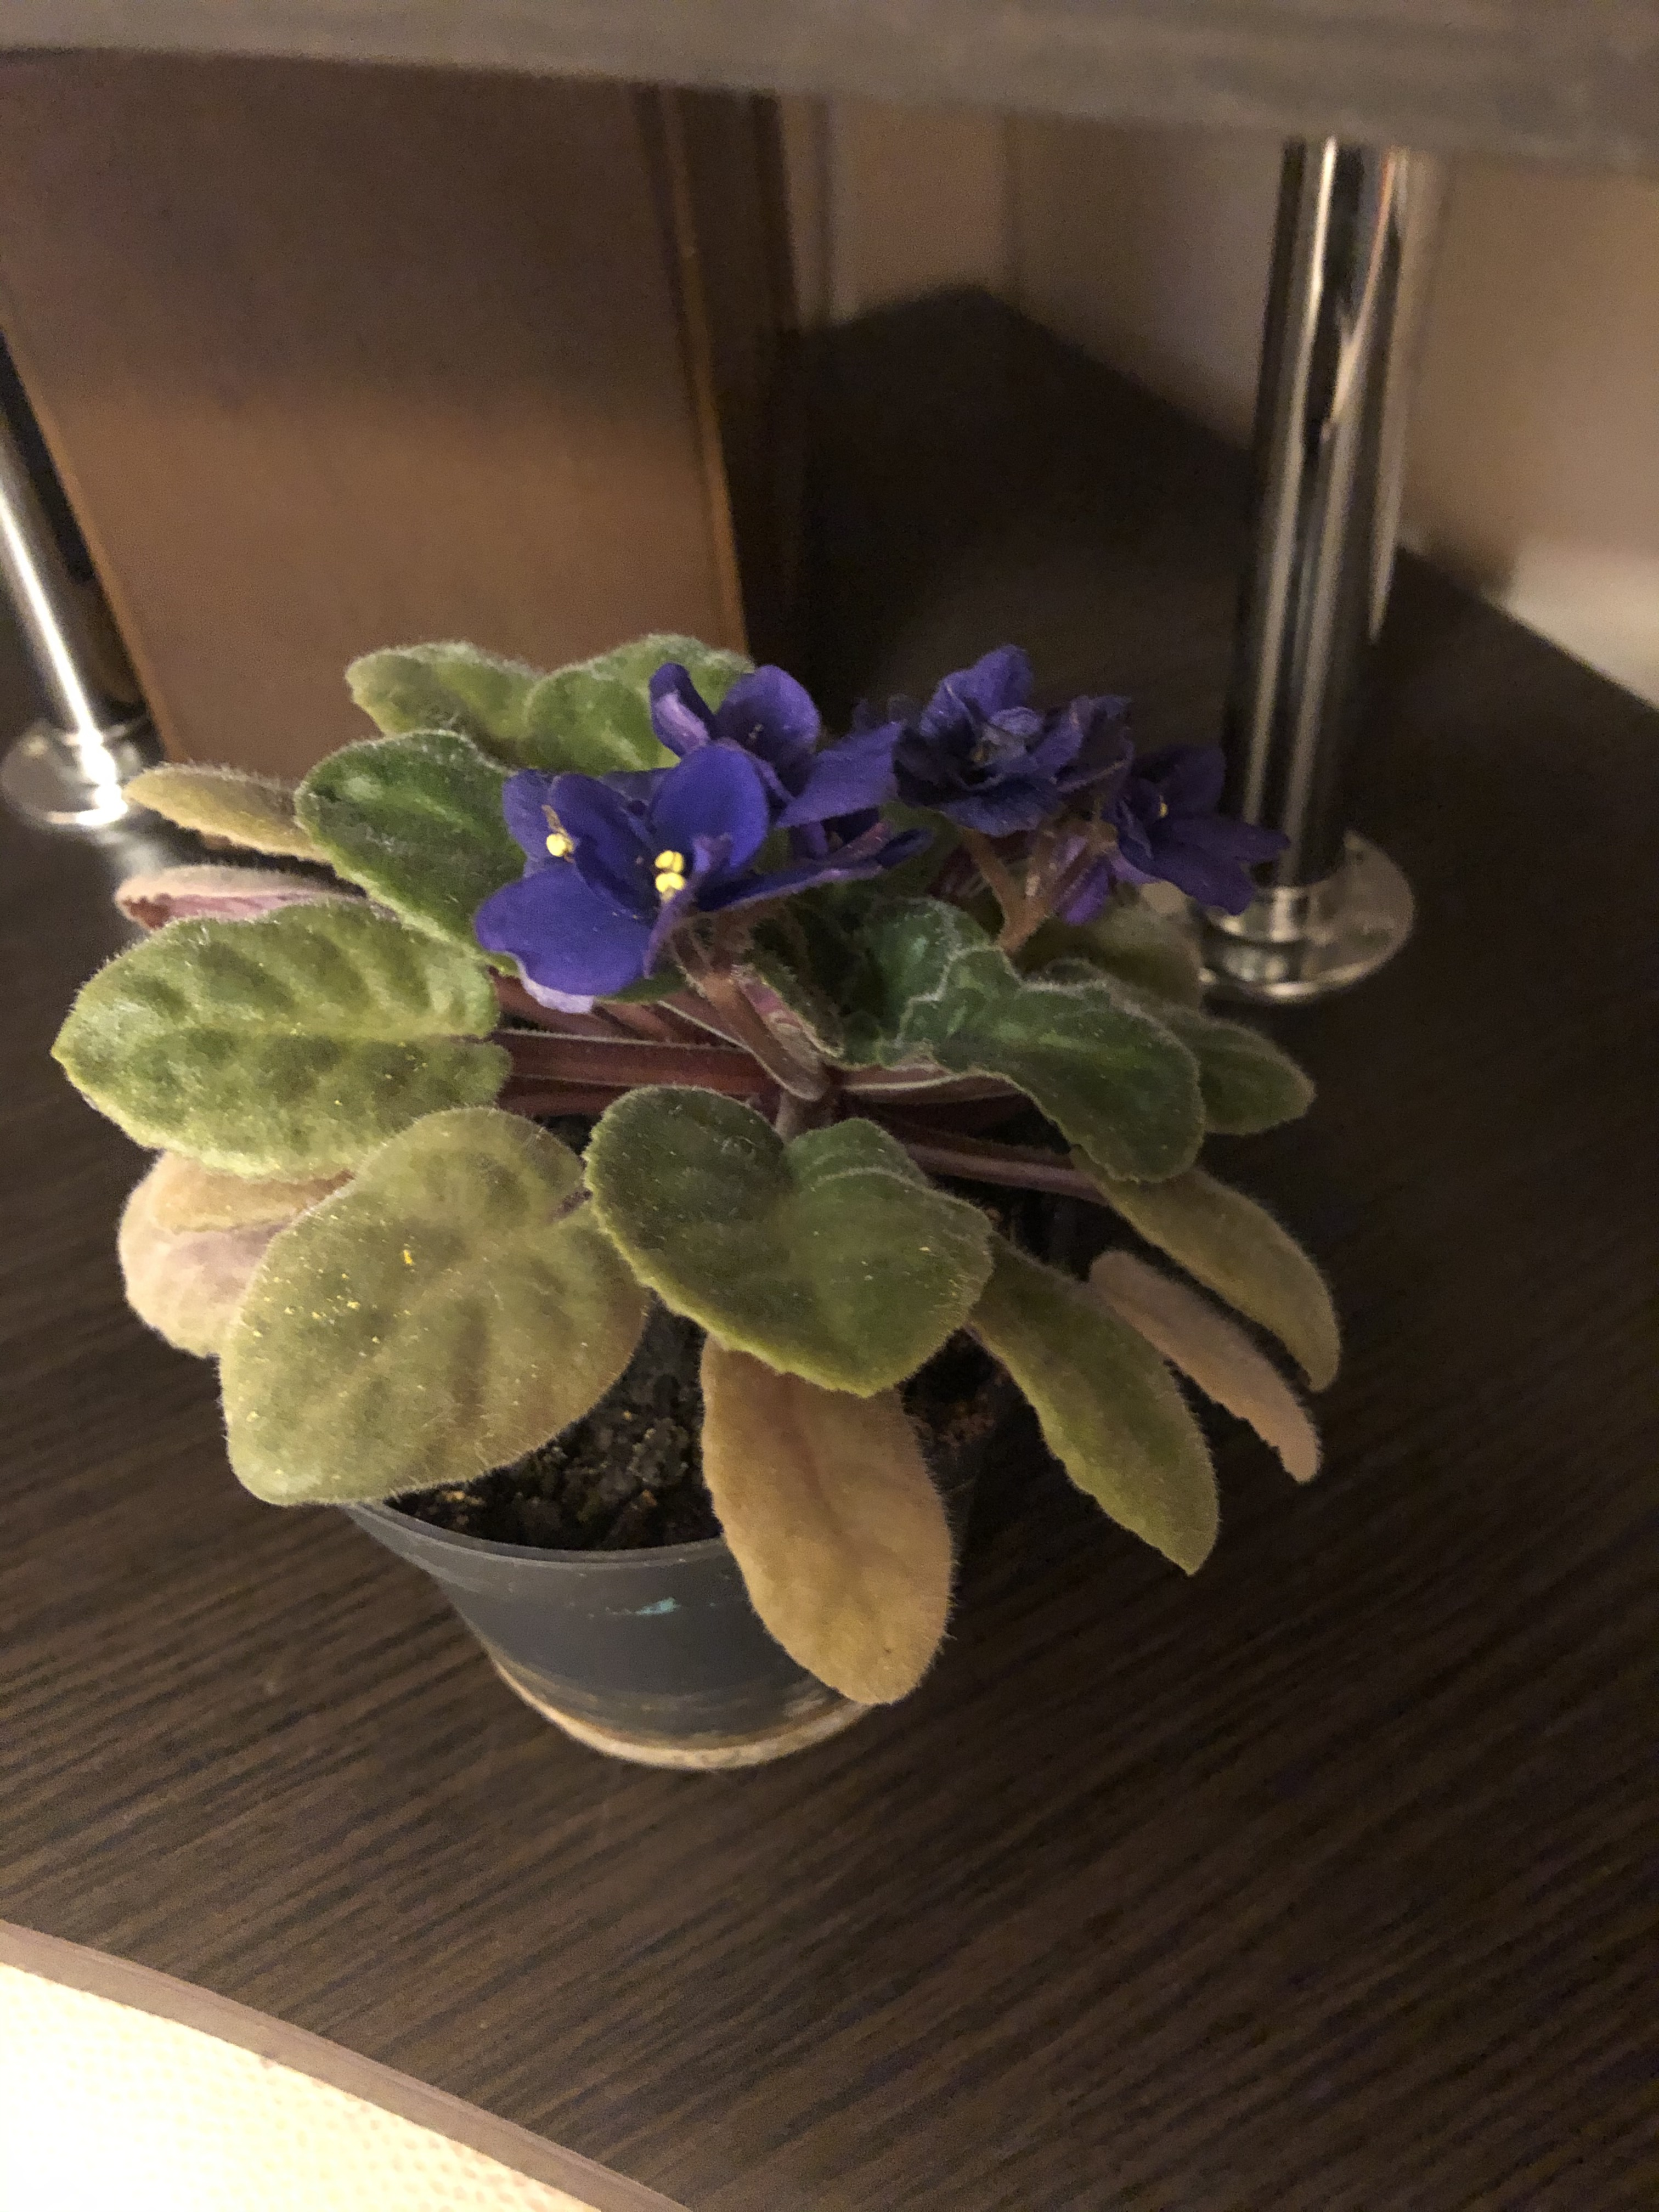ignore: (28, 592, 1438, 1733)
